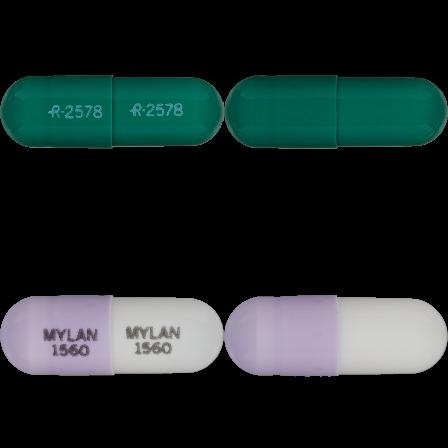0615-1342: (0, 0, 224, 224)
